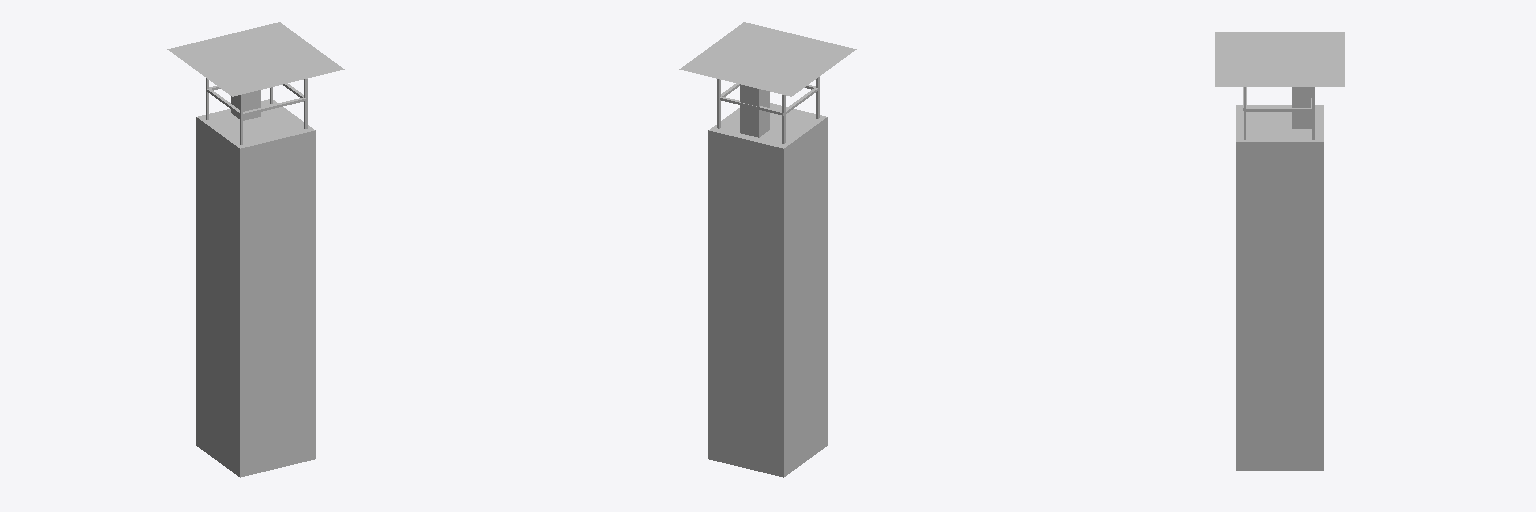
Rendered from TrumpTower.obj.
3 views of the same model, side by side, from view 1: azimuth 30°, elevation 25°; view 2: azimuth 150°, elevation 25°; view 3: azimuth 270°, elevation 25° (orthographic).
Parts seen in each view (by area): view 1: pCube7; view 2: pCube7; view 3: pCube7.
Boxes of the visible parts, x1=… form: pCube7: x1=167, y1=22, x2=344, y2=477; pCube7: x1=679, y1=22, x2=856, y2=477; pCube7: x1=1215, y1=32, x2=1344, y2=470.
Size of the model in its own units: 39.96 by 134 by 39.96.